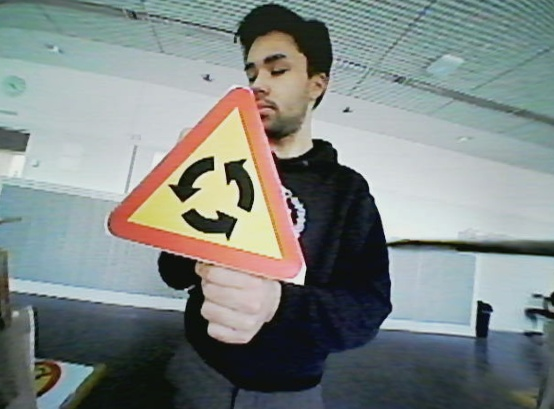roundabout_warning: (110, 74, 305, 289)
